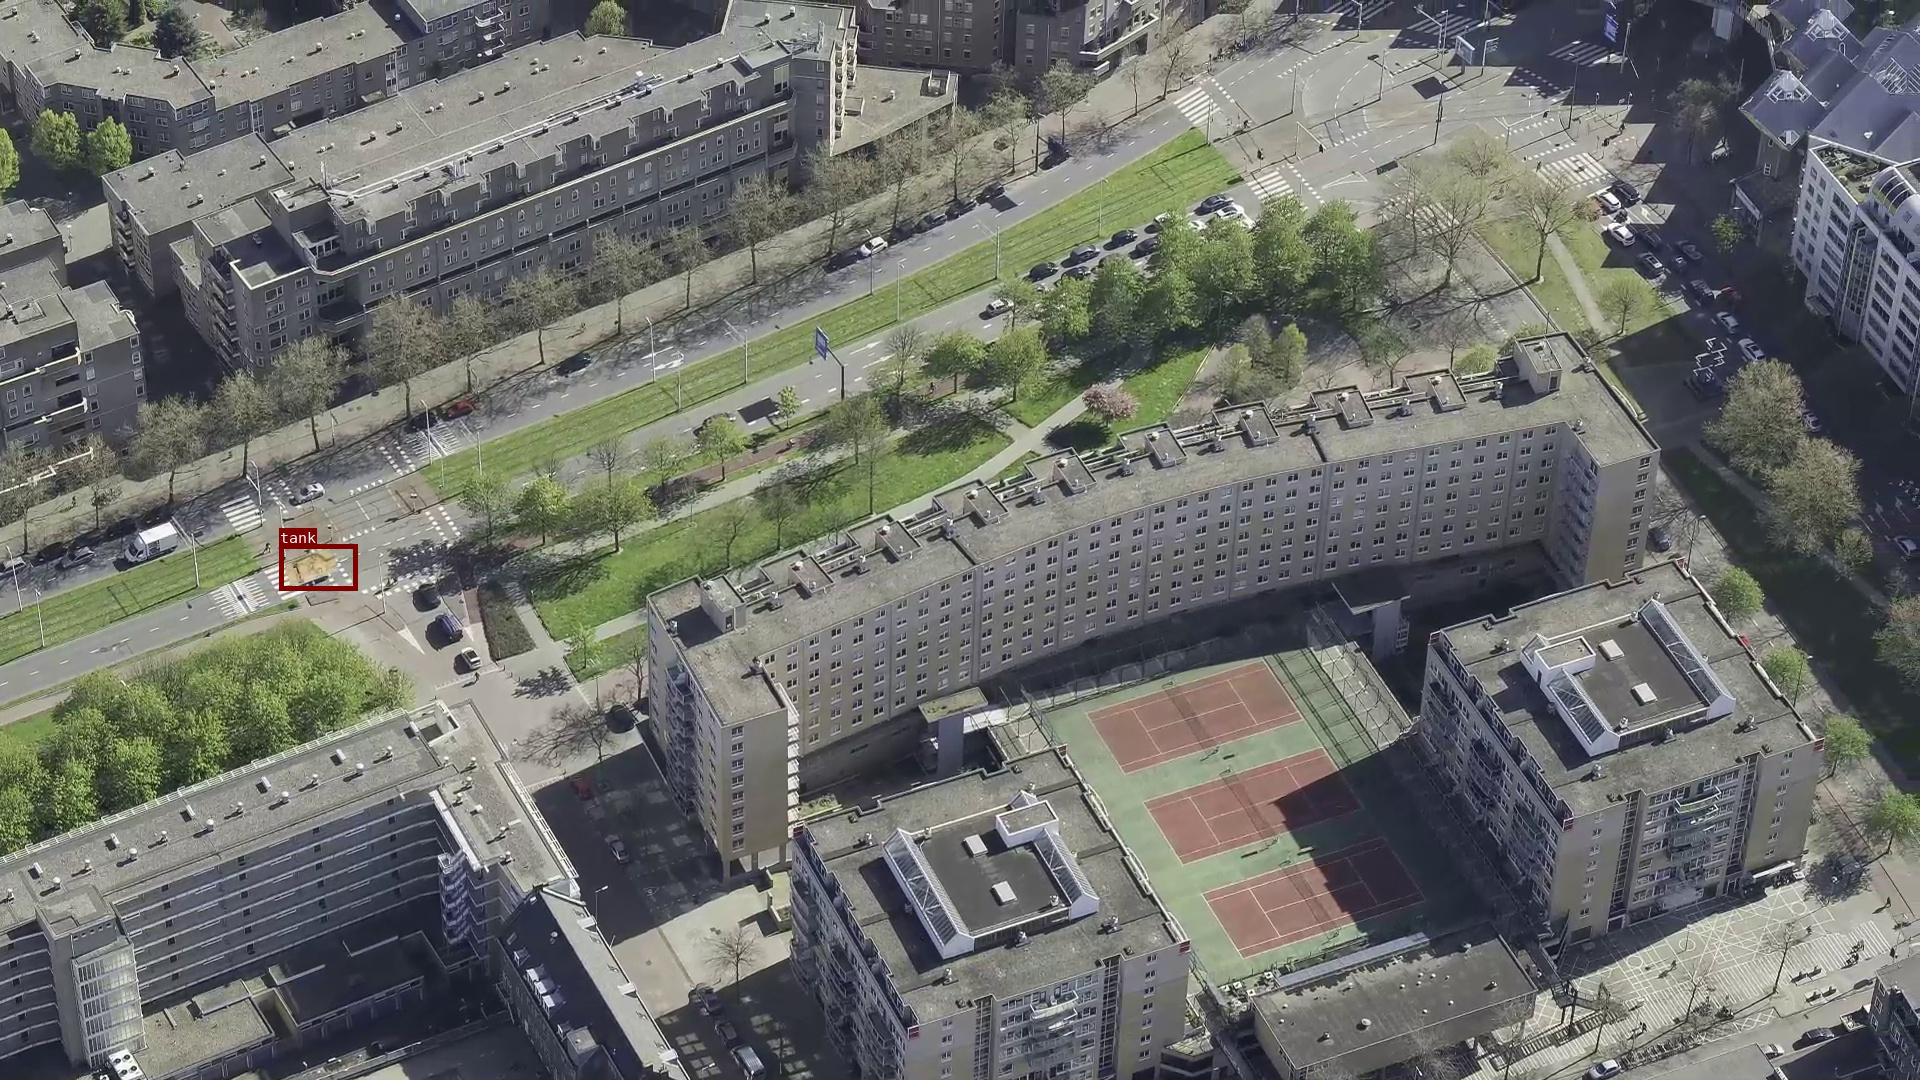tank: (280, 545, 357, 589)
